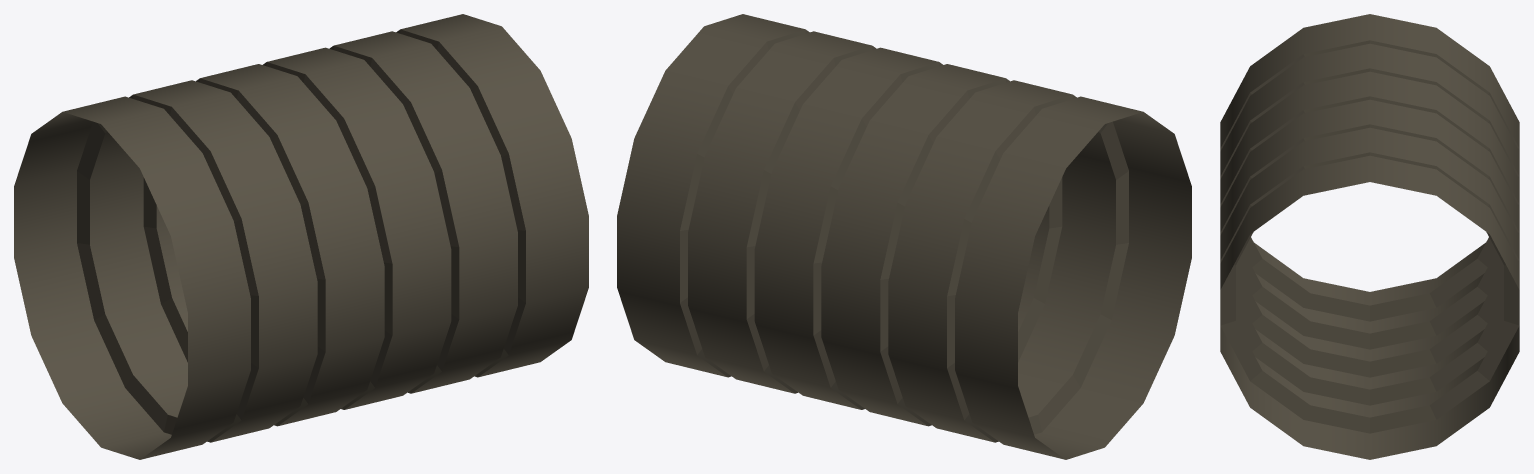
Rendered from SM_metal_support_04.fbx.
3 renders of one model, left to right at view 1: azimuth 30°, elevation 25°; view 2: azimuth 150°, elevation 25°; view 3: azimuth 270°, elevation 25°, orthographic. The views are drawn at different scales.
Parts seen in each view (by area): view 1: metal_support_04; view 2: metal_support_04; view 3: metal_support_04.
Part boxes in pixels (x1=…): metal_support_04: x1=14, y1=14, x2=588, y2=459; metal_support_04: x1=617, y1=14, x2=1191, y2=459; metal_support_04: x1=1220, y1=14, x2=1519, y2=459.
Bounding box in the file's own units: 76.68 × 59.15 × 57.66.
